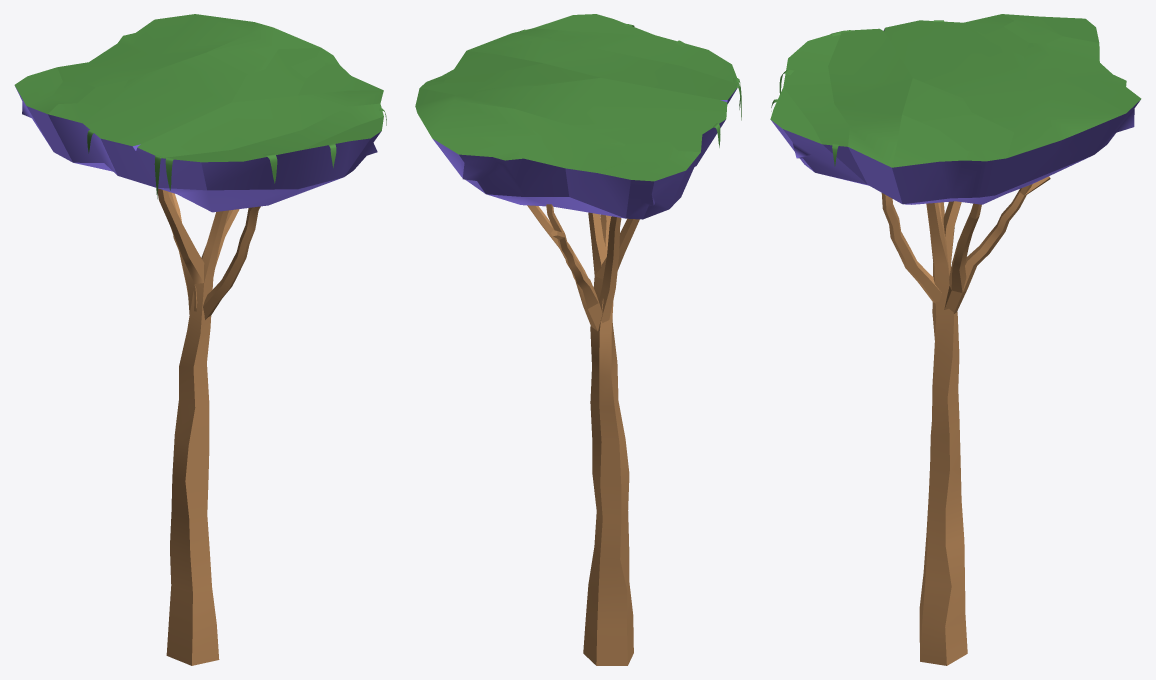
Rendered from tree_F_canopy_C_solo.fbx.
The picture shows the model from 3 angles, left to right: view 1: azimuth 30°, elevation 25°; view 2: azimuth 150°, elevation 25°; view 3: azimuth 270°, elevation 25°; orthographic projection. The views are drawn at different scales.
Parts seen in each view (by area): view 1: tree_F_canopy_C, tree_F_canopy_C_trunk_A, tree_F_canopy_C_trunk_H, tree_F_canopy_C_trunk_B; view 2: tree_F_canopy_C, tree_F_canopy_C_trunk_A, tree_F_canopy_C_trunk_G, tree_F_canopy_C_trunk_I, tree_F_canopy_C_trunk_B; view 3: tree_F_canopy_C, tree_F_canopy_C_trunk_A, tree_F_canopy_C_trunk_G, tree_F_canopy_C_trunk_H, tree_F_canopy_C_trunk_I.
Boxes of the visible parts, x1,y1,x2,y2 form: tree_F_canopy_C: (14,14,383,212); tree_F_canopy_C_trunk_A: (166,210,228,665); tree_F_canopy_C_trunk_H: (203,206,260,319); tree_F_canopy_C_trunk_B: (157,188,204,283); tree_F_canopy_C: (415,14,739,219); tree_F_canopy_C_trunk_A: (583,212,633,665); tree_F_canopy_C_trunk_G: (527,204,603,331); tree_F_canopy_C_trunk_I: (599,216,621,322); tree_F_canopy_C_trunk_B: (595,218,639,279); tree_F_canopy_C: (770,14,1141,204); tree_F_canopy_C_trunk_A: (919,202,967,665); tree_F_canopy_C_trunk_G: (944,176,1050,313); tree_F_canopy_C_trunk_H: (881,193,941,303); tree_F_canopy_C_trunk_I: (943,201,961,274).
Bounding box in the file's own units: 344 × 642 × 365.
